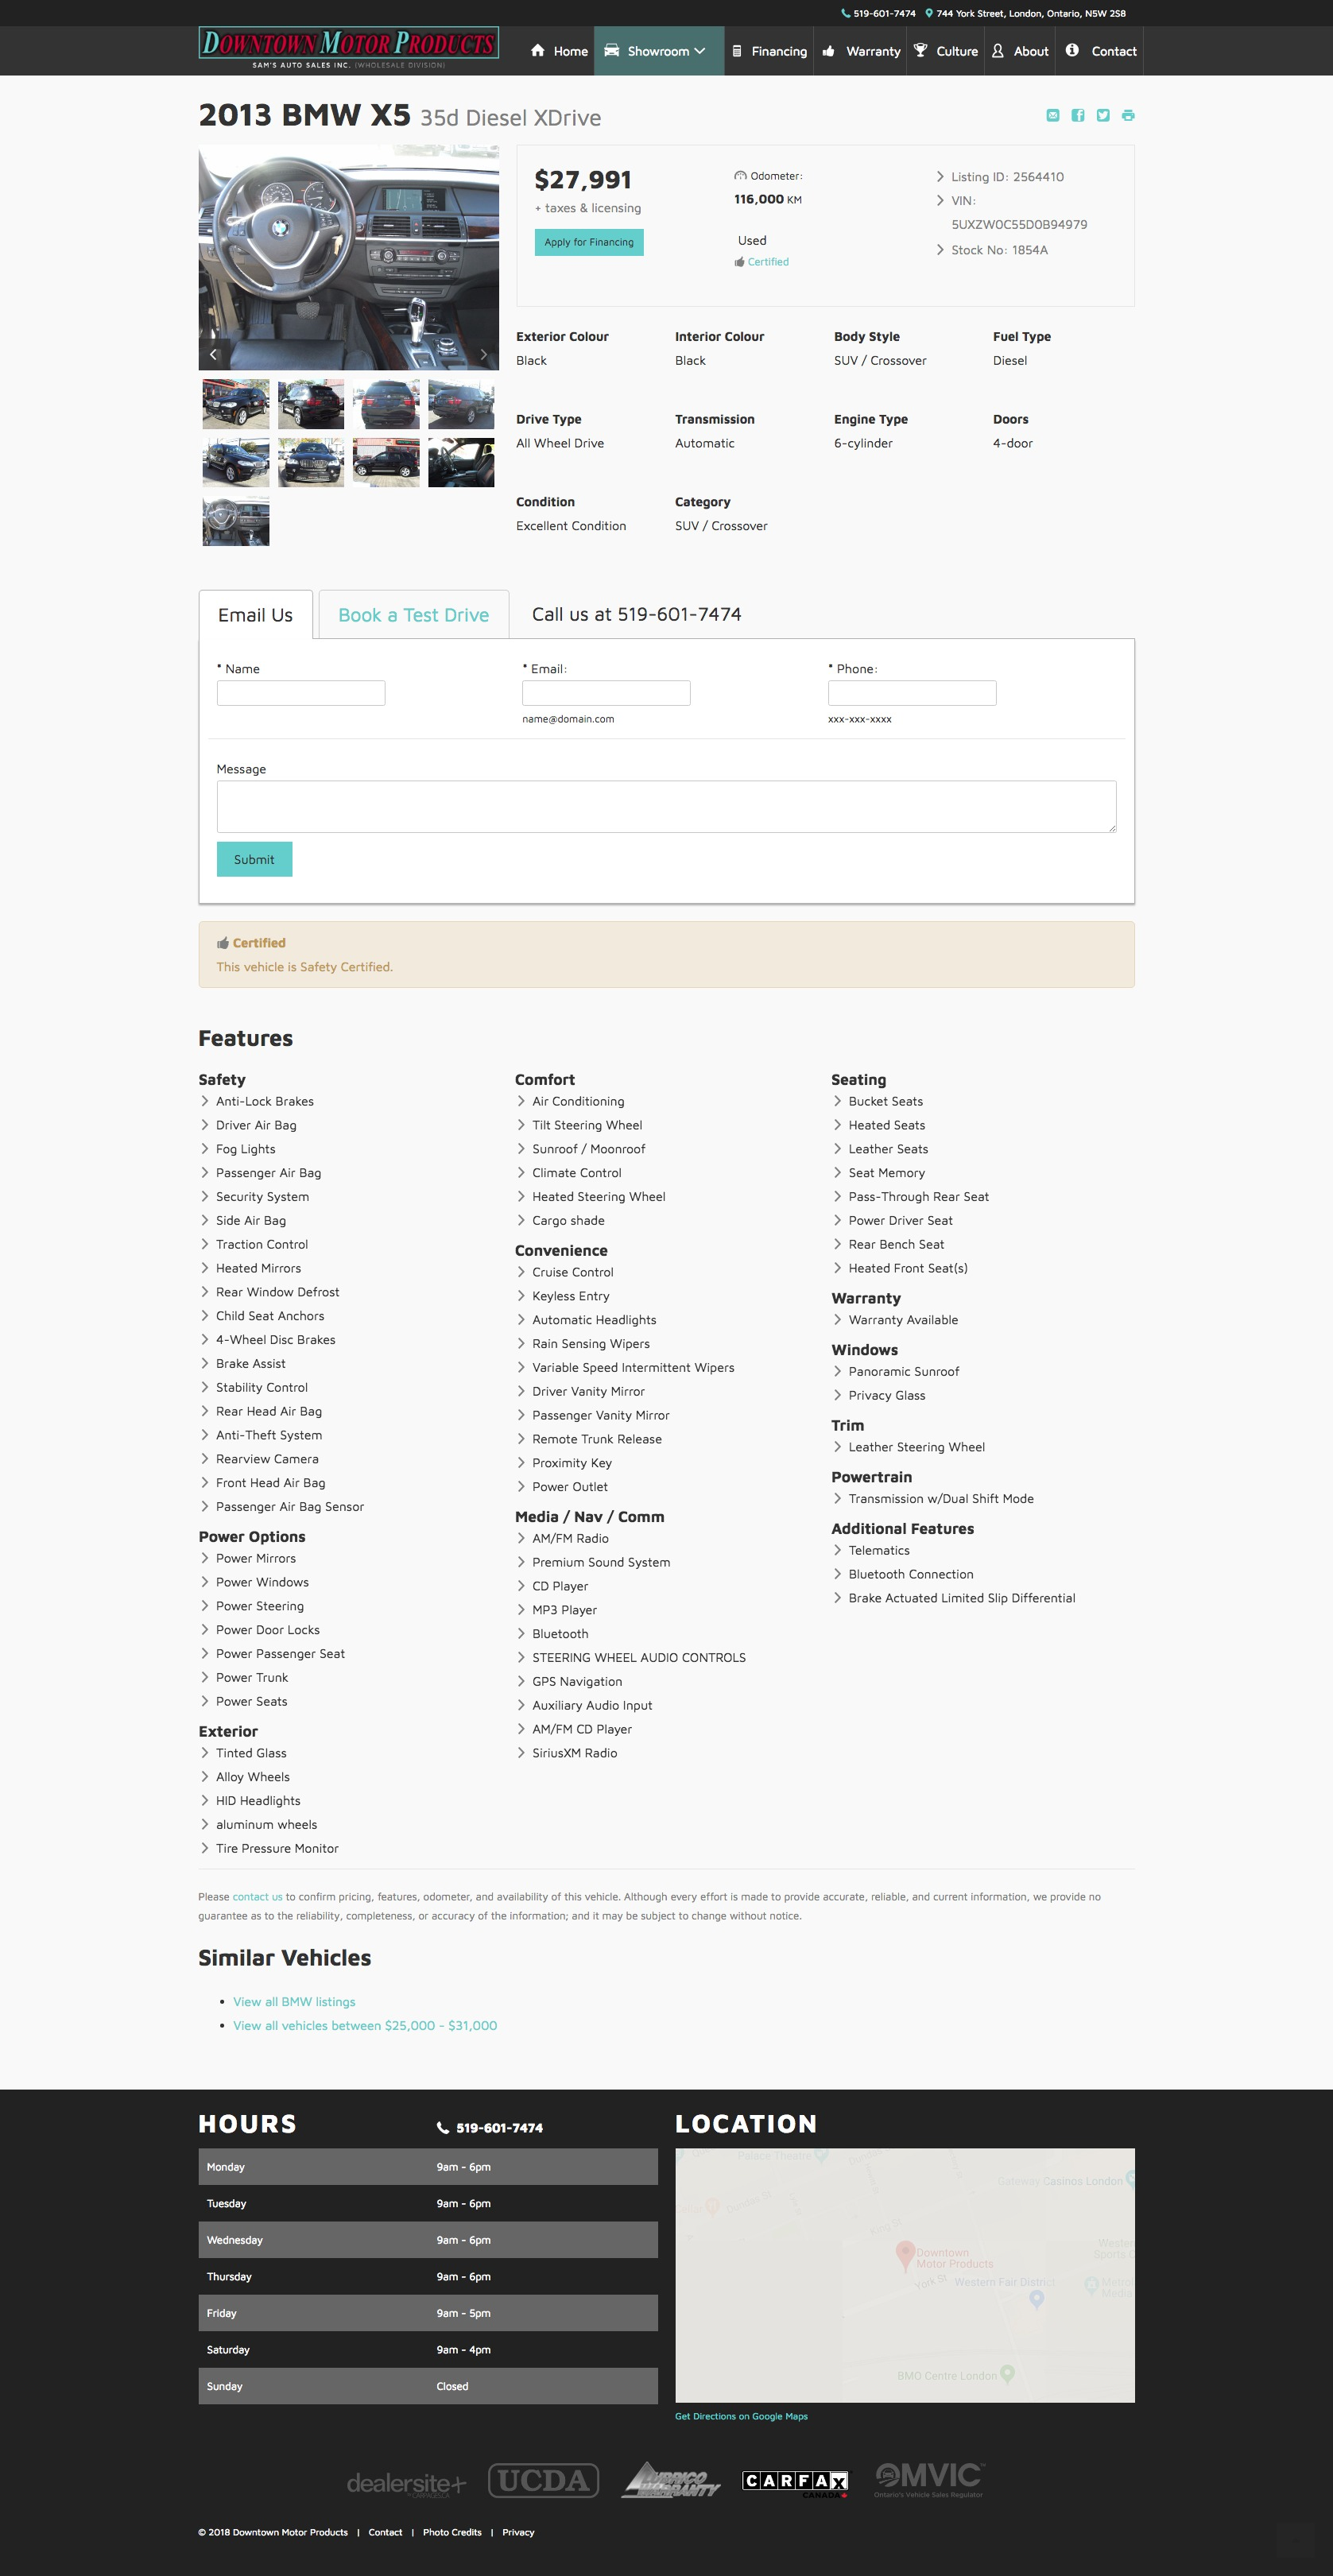car: (468, 340, 502, 372)
